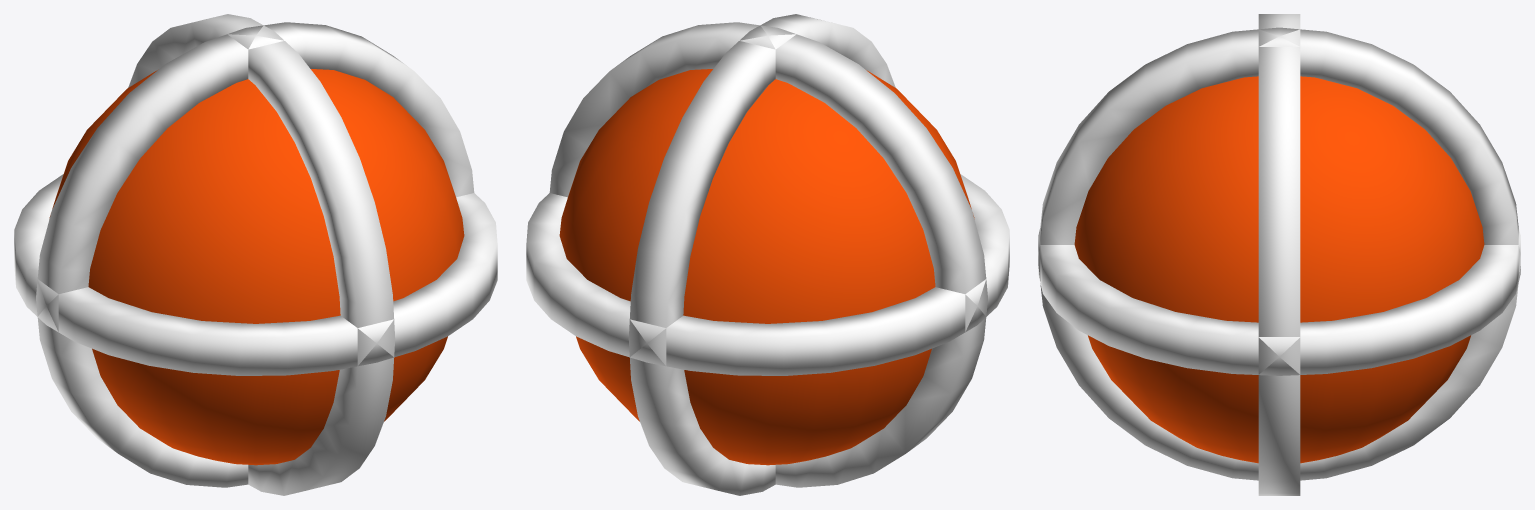
Rendered from Ball-9.dae.
The picture shows the model from 3 angles, left to right: view 1: azimuth 30°, elevation 25°; view 2: azimuth 150°, elevation 25°; view 3: azimuth 270°, elevation 25°; orthographic projection.
Visible parts, largest first — view 1: Ball; view 2: Ball; view 3: Ball.
Boxes of the visible parts, x1,y1,x2,y2 form: Ball: (14,14,497,495); Ball: (526,14,1009,495); Ball: (1038,14,1520,495).
Bounding box in the file's own units: 0.046 × 0.046 × 0.046.
